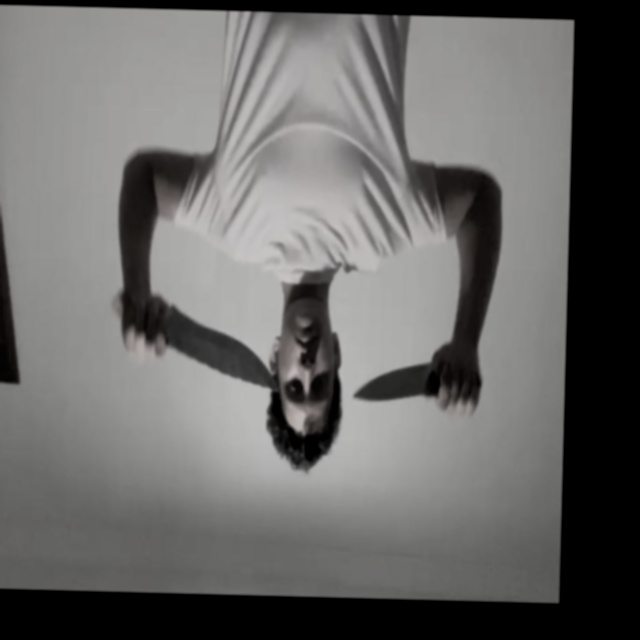Sharp-Object: (164, 309, 281, 394), (354, 362, 430, 402)
